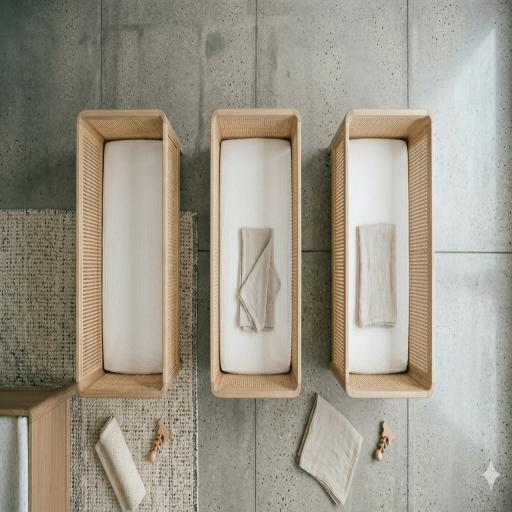crib: (329, 110, 434, 397), (211, 109, 301, 397), (102, 140, 163, 373)
